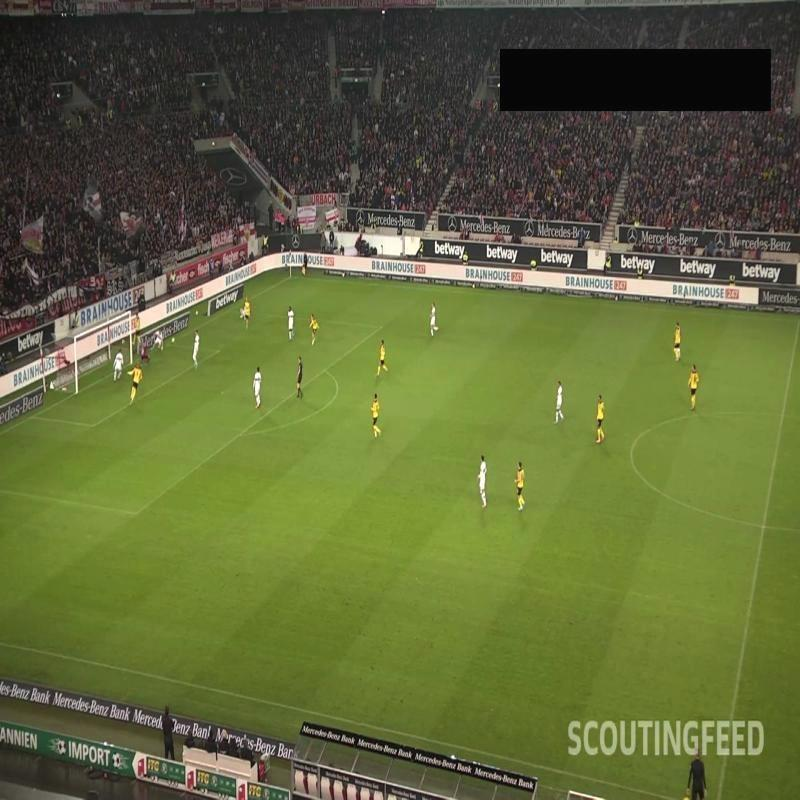1: (284, 271, 298, 285)
10: (318, 362, 332, 376)
11: (235, 426, 249, 440)
12: (129, 507, 143, 521)
14: (776, 407, 790, 422)
15: (756, 522, 770, 536)
2: (222, 304, 236, 318)
3: (162, 339, 172, 350)
4: (25, 410, 39, 424)
7: (213, 344, 227, 358)
8: (86, 418, 100, 432)
9: (374, 319, 388, 333)
c: (626, 438, 640, 452)
